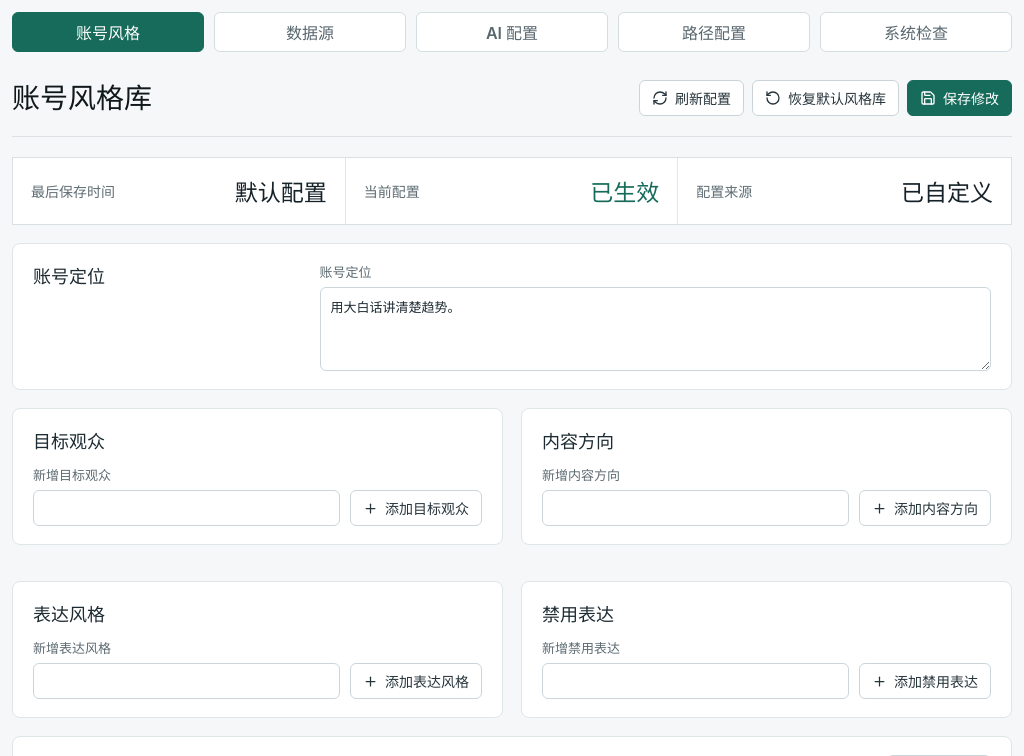
Test: 设置页数据源配置 › 用统一卡片和分组列表展示数据源状态，并支持立即抓取
Click the tab "数据源": [310, 32] box [214,12,406,52]
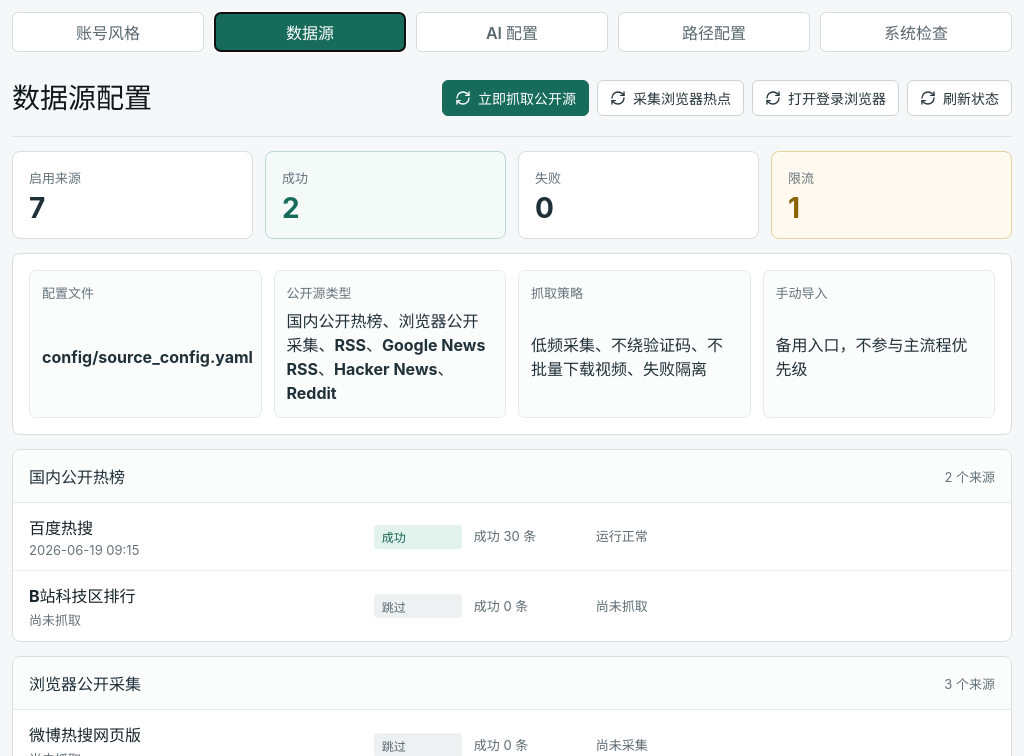
Result: the heading "数据源配置" is shown at [12,76,152,116]
Result: the text "启用来源" is shown at [29,170,81,186]
Result: the heading "国内公开热榜" is shown at [29,464,125,488]
Click the button "立即抓取公开源": [516, 98] box [442,80,589,116]
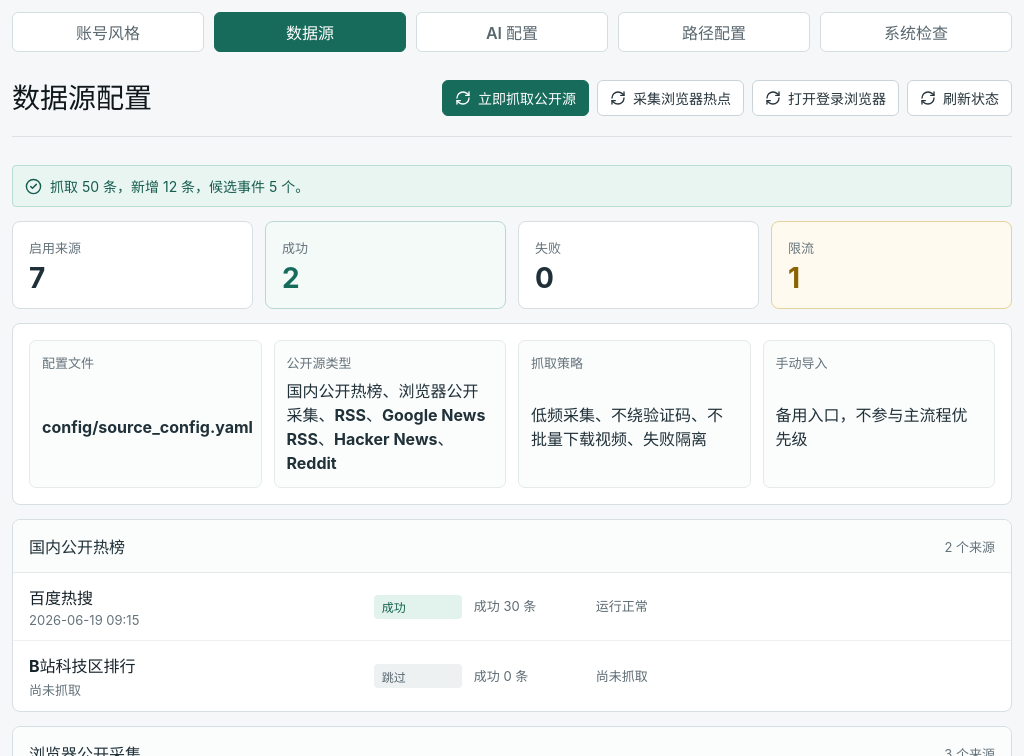
Result: the text "抓取 50 条，新增 12 条，候选事件 5 个。" is shown at [12,165,1012,207]
Click the button "采集浏览器热点": [670, 98] box [597,80,744,116]
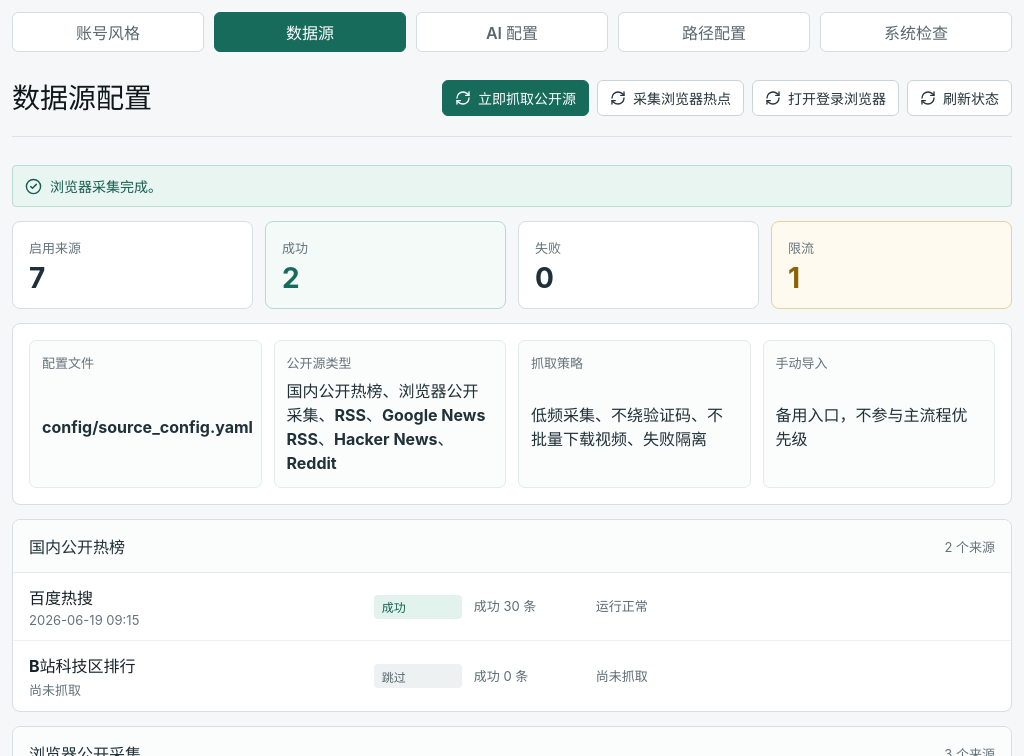
Result: the text "浏览器采集完成。" is shown at [12,165,1012,207]
Click the button "打开登录浏览器": [826, 98] box [752,80,899,116]
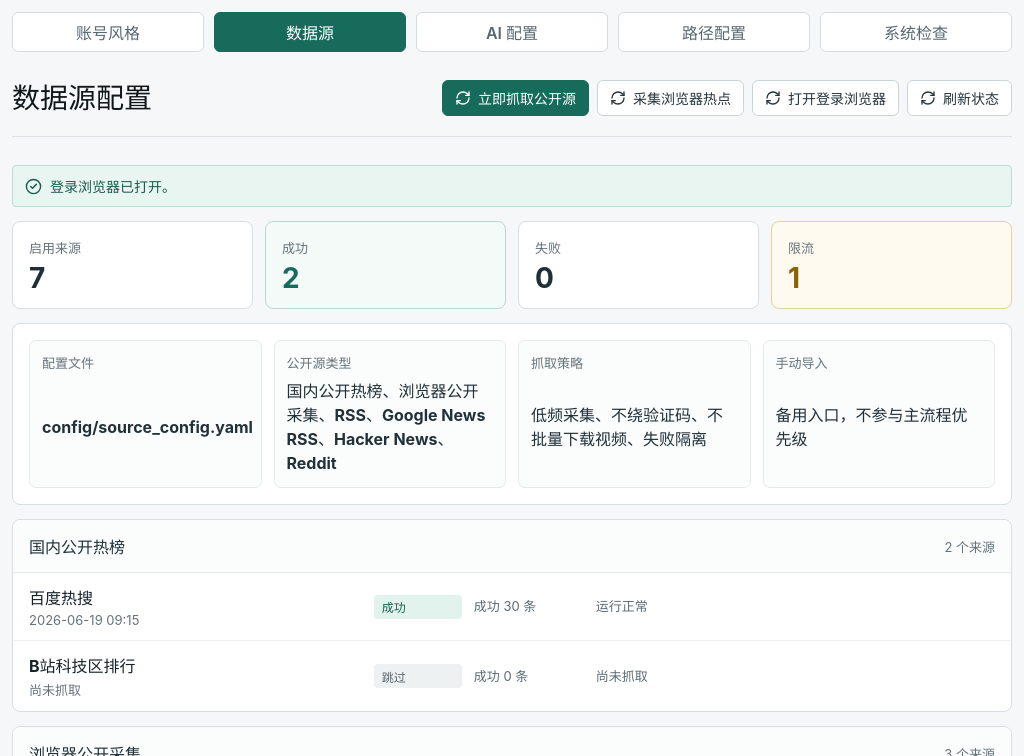
Result: the text "登录浏览器已打开。" is shown at [12,165,1012,207]
